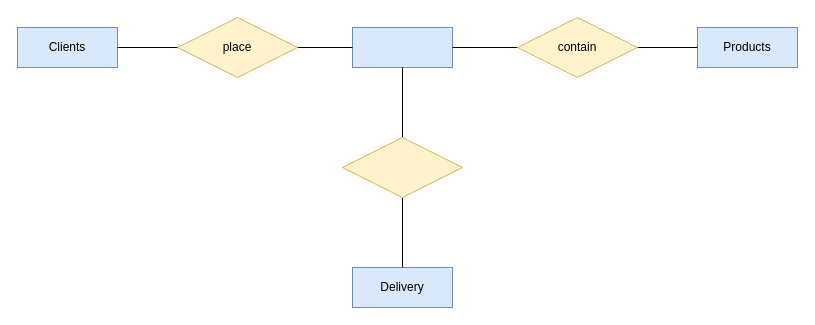
Some shapes in this 815 by 325 pixel diagram are drawn without their labels. The centre of each missing label's shape, as x and y in pixels:
delivered: pixel 402 167
Orders: pixel 402 47
